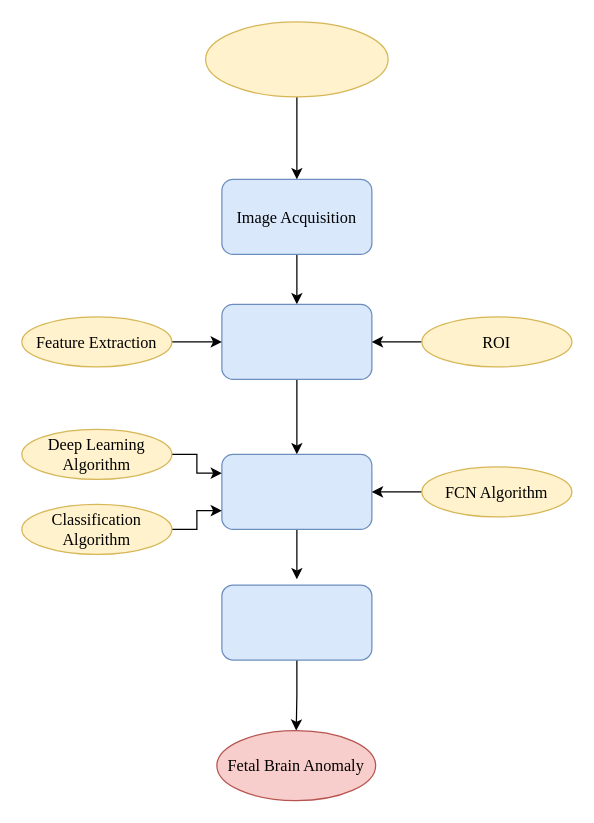
The diagram is 594 pixels wide and 823 high, and some of its shapes have lost their labels. The shapes that lost their labels are listed below. From the top down, each one's box as (x1, y1, x2, y2) in pixels, then its label:
(204, 21, 388, 97): Fetal Brain Ultrasound Images
(221, 303, 372, 379): Preprocessing
(221, 453, 372, 529): Training
(221, 584, 372, 660): Classification
